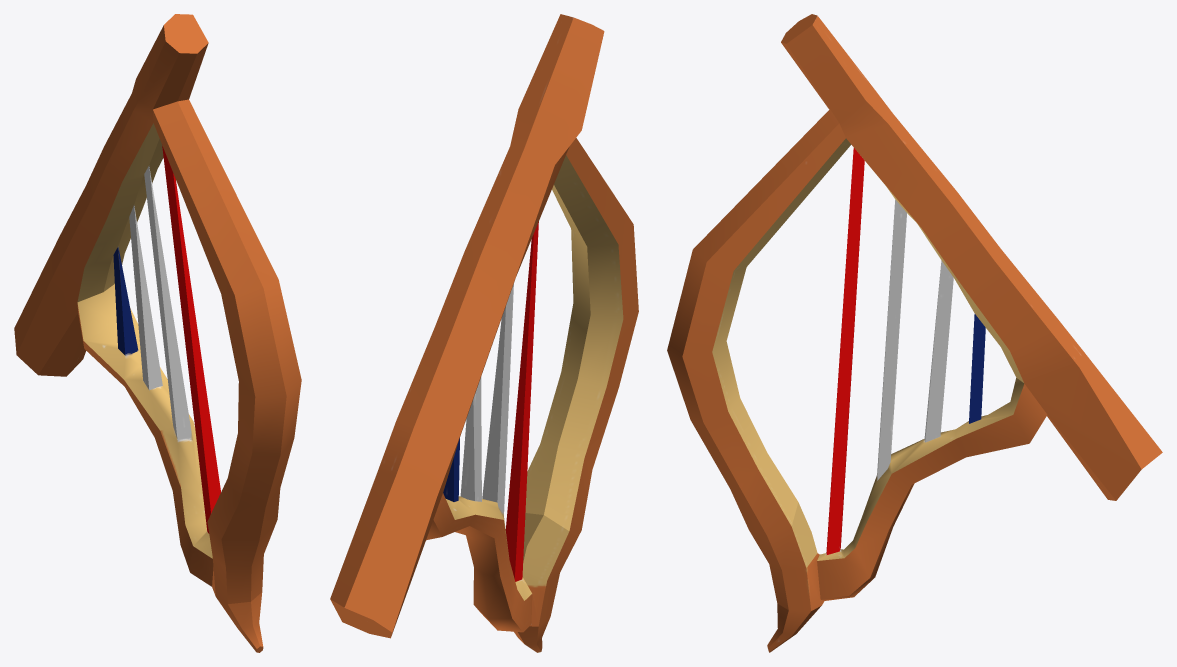
Rendered from Arpa3_000008.obj.
The picture shows the model from 3 angles, left to right: view 1: azimuth 30°, elevation 25°; view 2: azimuth 150°, elevation 25°; view 3: azimuth 270°, elevation 25°; orthographic projection. The views are drawn at different scales.
Parts seen in each view (by area): view 1: a3_Arpa_1:pCube6; view 2: a3_Arpa_1:pCube6; view 3: a3_Arpa_1:pCube6.
Boxes of the visible parts, <box> form: a3_Arpa_1:pCube6: <box>14,14,301,652</box>; a3_Arpa_1:pCube6: <box>330,14,638,652</box>; a3_Arpa_1:pCube6: <box>667,14,1162,652</box>.
Size of the model in its own units: 1.56 by 9.65 by 7.12.
